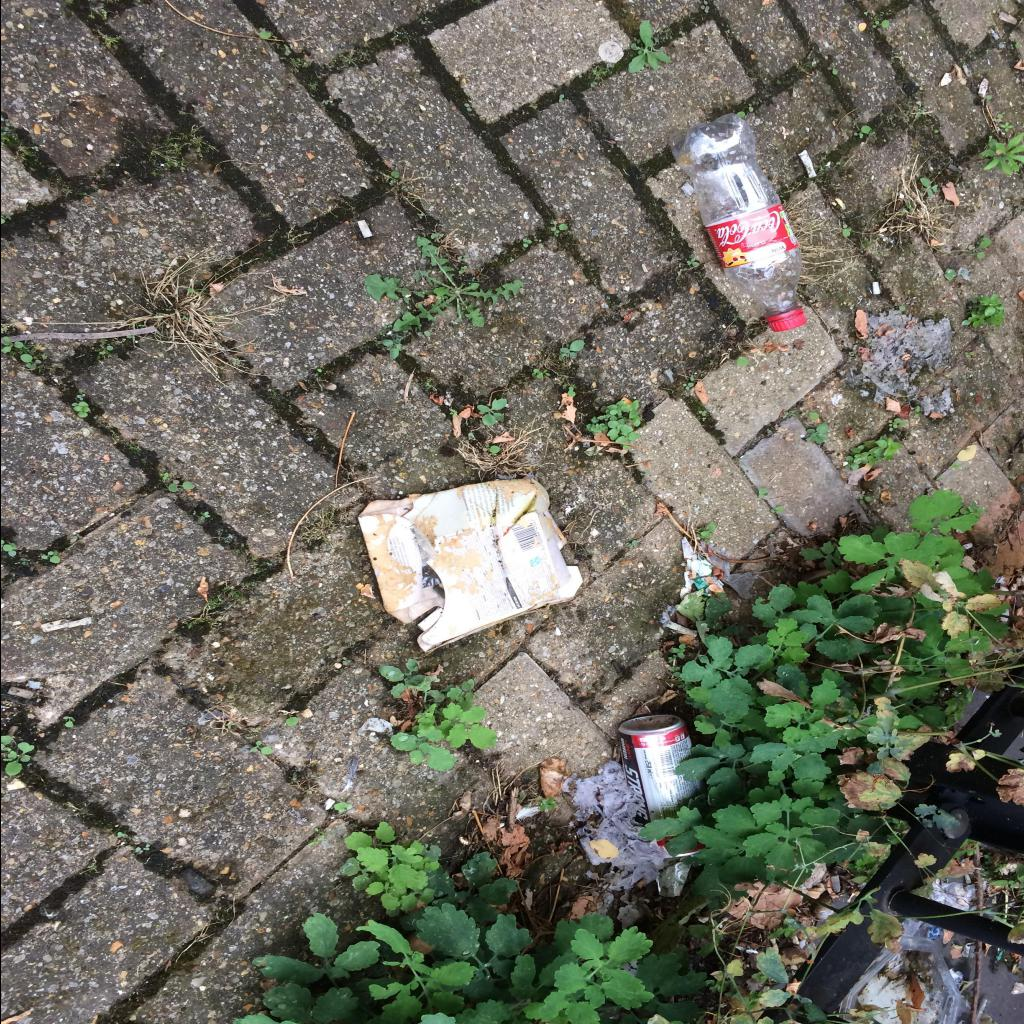Cigarette: (798, 149, 816, 177), (358, 220, 372, 238), (977, 78, 989, 98), (872, 282, 880, 294)
Clear plastic bottle: (668, 113, 806, 332)
Drink can: (618, 714, 706, 858)
Normal paper: (560, 761, 670, 891)
Plastic bottle cap: (766, 312, 806, 332)
Unlabeled litter: (928, 880, 976, 912), (656, 856, 690, 897)
